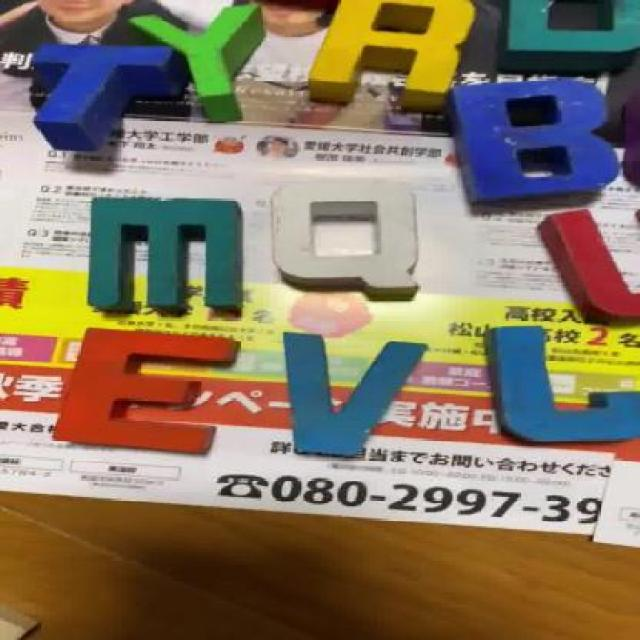B: (465, 78, 609, 197)
E: (70, 330, 238, 462)
M: (93, 194, 252, 311)
Q: (272, 184, 426, 299)
R: (311, 0, 472, 103)
T: (34, 45, 184, 147)
V: (276, 332, 418, 460)
Y: (141, 8, 273, 110)
